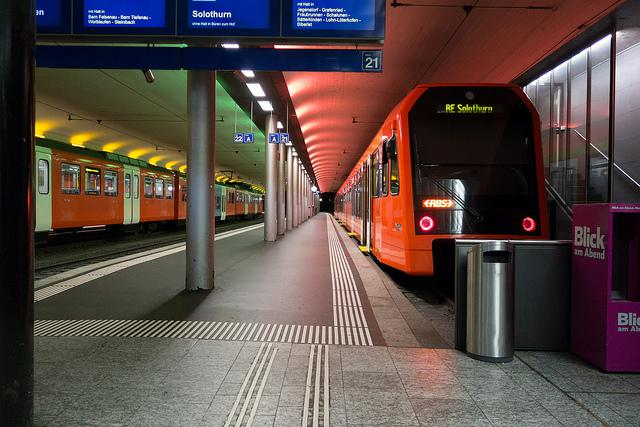Train: (335, 82, 550, 278), (33, 150, 267, 234)
